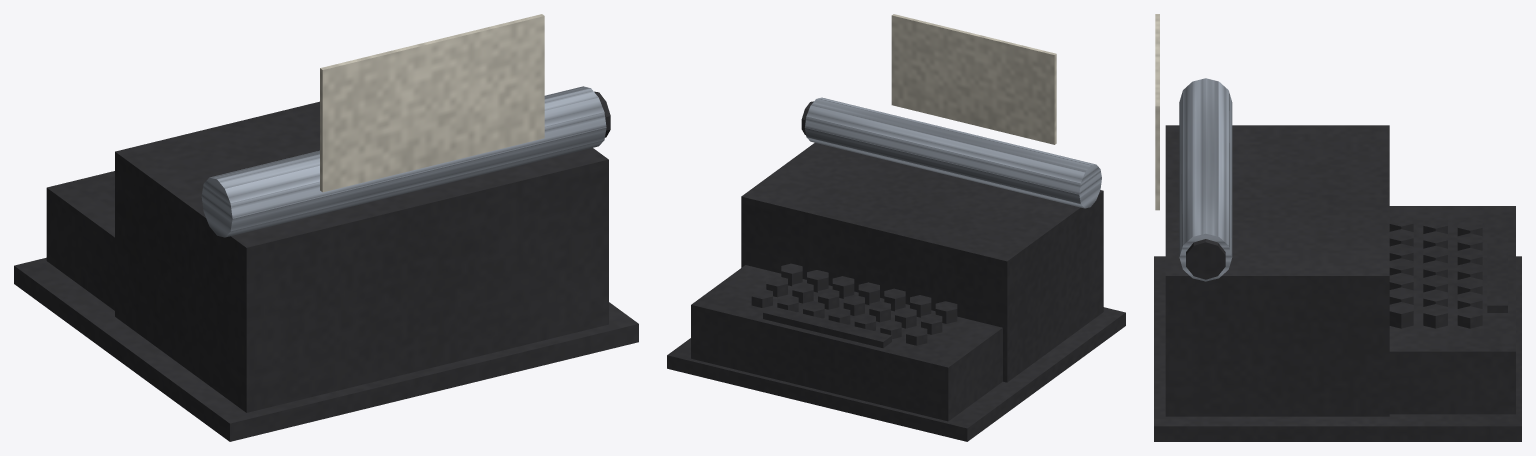
The model's file is typewriter.fbx.
3 views of the same model, side by side, from view 1: azimuth 30°, elevation 25°; view 2: azimuth 150°, elevation 25°; view 3: azimuth 270°, elevation 25° (orthographic). The views are drawn at different scales.
Parts seen in each view (by area): view 1: typewriter; view 2: typewriter; view 3: typewriter.
Part boxes in pixels (x1,y1,x2,y2): typewriter: (14,14,638,441); typewriter: (667,14,1125,441); typewriter: (1154,14,1521,441).
Bounding box in the file's own units: 35 × 28.5 × 32.
